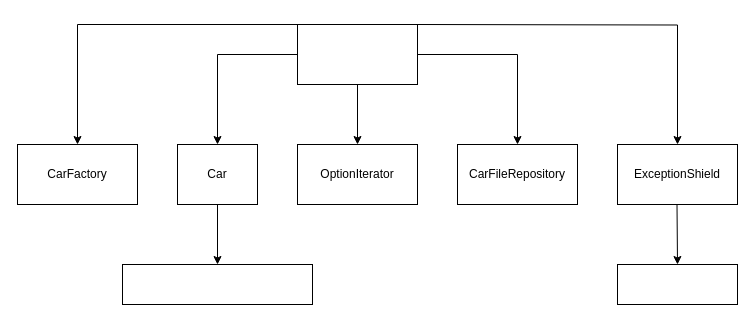
This 755x322 diagram has some shape labels left out. The shapes that lost their labels are listed below. From the top down, each one's centre as x and y in pixels, then its label:
the point at 357,54: Main(Console)
the point at 217,284: OptionComponent / Leaf / Bundle
the point at 677,284: AppLogger
